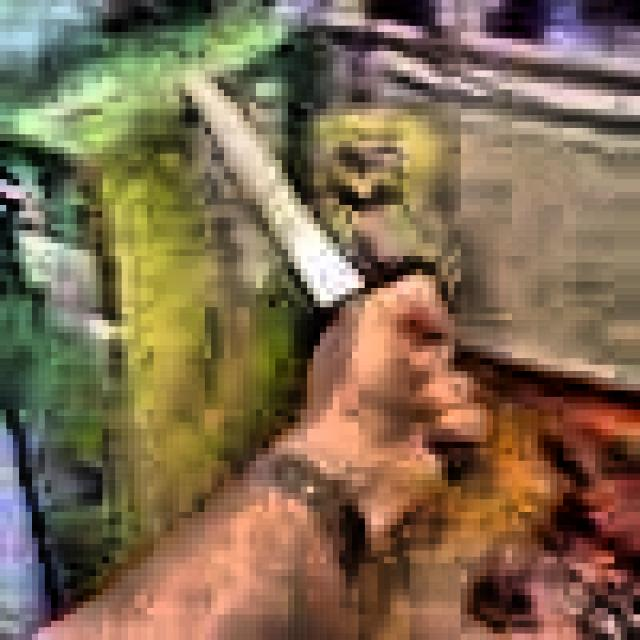knife: (191, 80, 474, 481)
